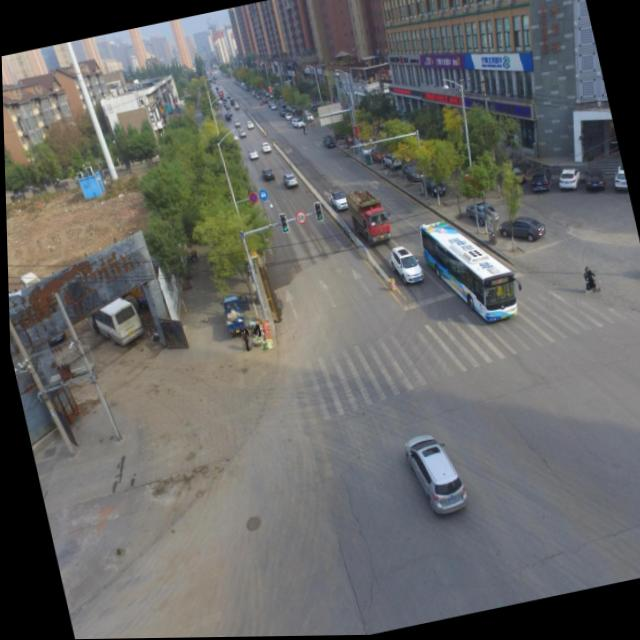Person: (578, 266, 599, 297), (237, 329, 250, 352), (249, 325, 259, 339)
